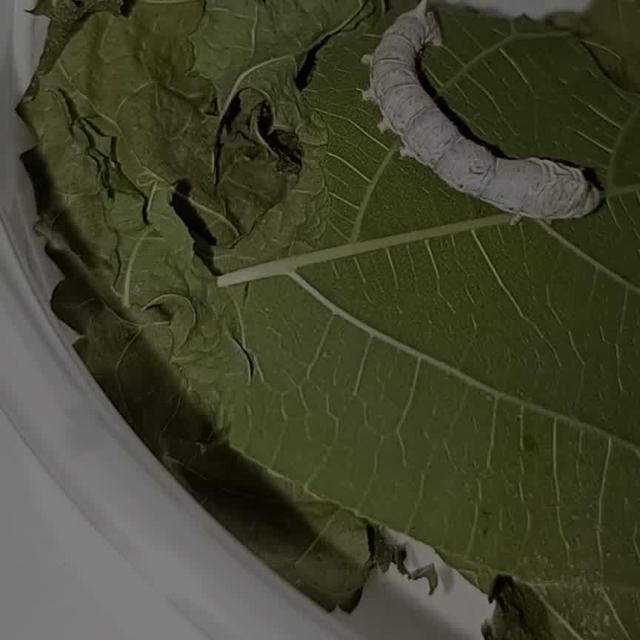Healthy: (335, 0, 621, 239)
